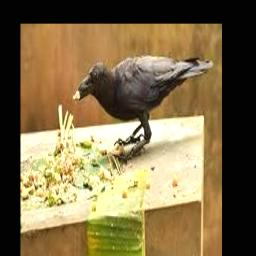Crow: (76, 55, 214, 152)
